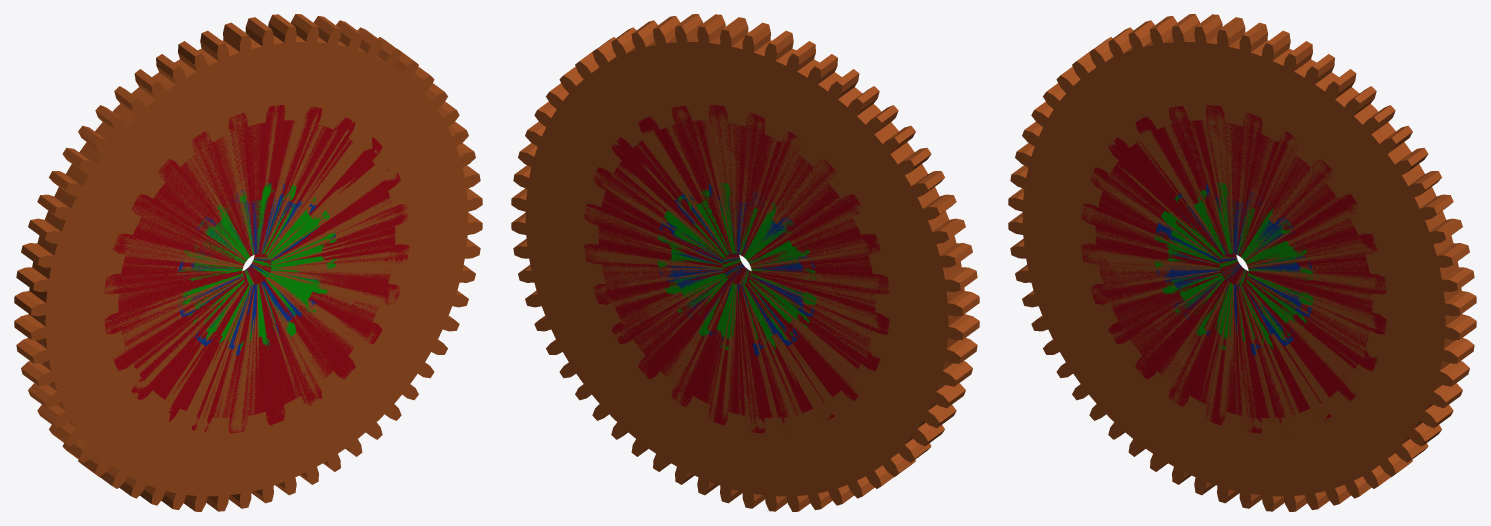
File: rodas-dentadas.obj
The picture shows the model from 3 angles, left to right: view 1: azimuth 30°, elevation 25°; view 2: azimuth 150°, elevation 25°; view 3: azimuth 330°, elevation 25°; orthographic projection.
Visible parts, largest first — view 1: r3-60, r2-24, r1-20, r1-12; view 2: r3-60, r2-24, r1-20, r1-12; view 3: r3-60, r2-24, r1-20, r1-12.
Part boxes in pixels (box(x1,y1,x2,y2)): r3-60: box(14, 14, 482, 511); r2-24: box(104, 105, 409, 433); r1-20: box(177, 183, 336, 349); r1-12: box(178, 183, 335, 355); r3-60: box(511, 14, 979, 511); r2-24: box(584, 105, 889, 433); r1-20: box(657, 183, 816, 352); r1-12: box(659, 183, 814, 355); r3-60: box(1008, 14, 1476, 511); r2-24: box(1081, 105, 1386, 433); r1-20: box(1154, 183, 1313, 352); r1-12: box(1155, 183, 1311, 355).
Size of the model in its own units: 6.2 by 6.2 by 0.4.
